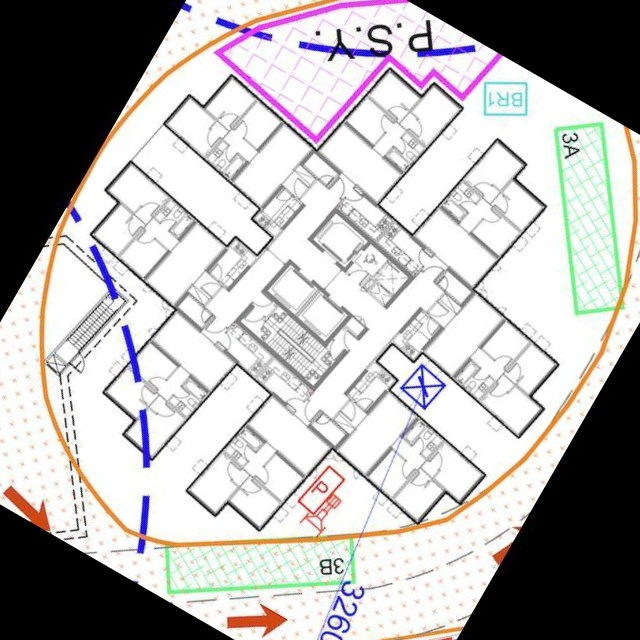tower_crane: (399, 363, 450, 414)
